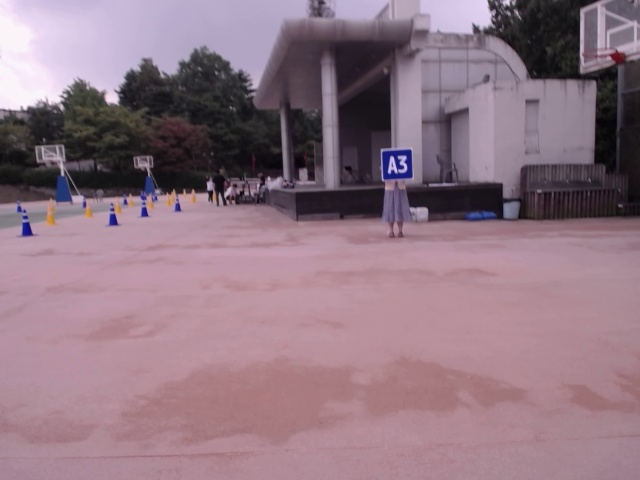delivery_a3: (382, 148, 414, 181)
